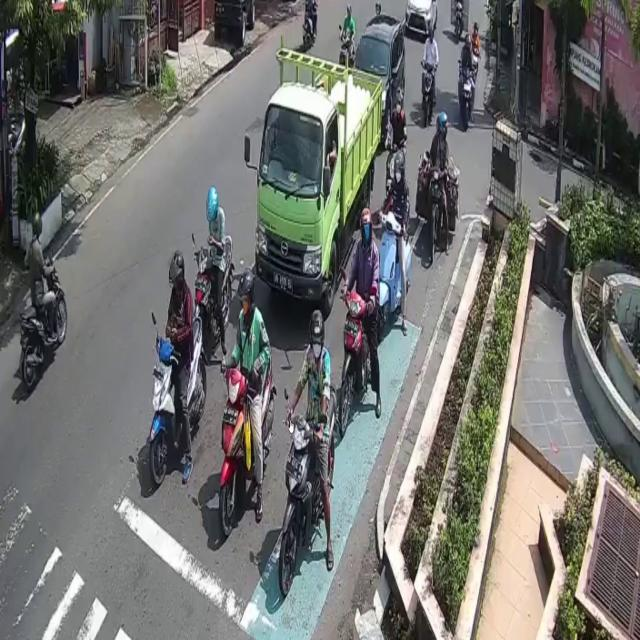bus: (279, 383, 339, 596), (148, 313, 208, 488), (221, 349, 276, 537), (18, 254, 69, 391), (339, 294, 380, 434), (190, 234, 233, 344), (376, 210, 409, 334), (428, 165, 447, 264), (457, 64, 477, 130), (420, 62, 437, 130)
motorcycle: (351, 14, 406, 142)
truck: (256, 45, 384, 313)
